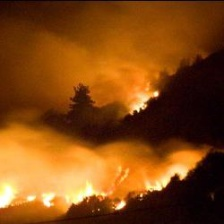fire: (1, 154, 193, 212), (123, 85, 161, 115)
